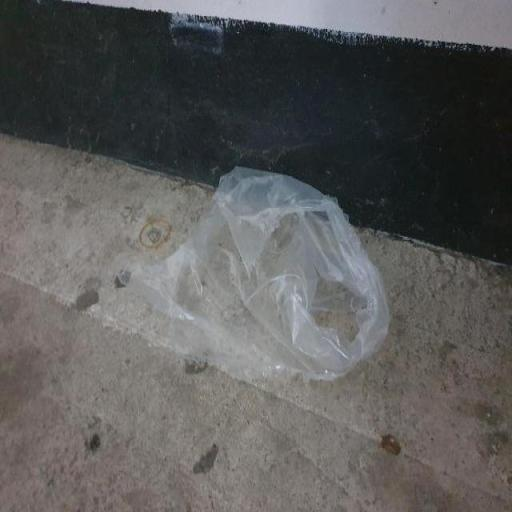plastic-bag: (111, 166, 391, 382)
